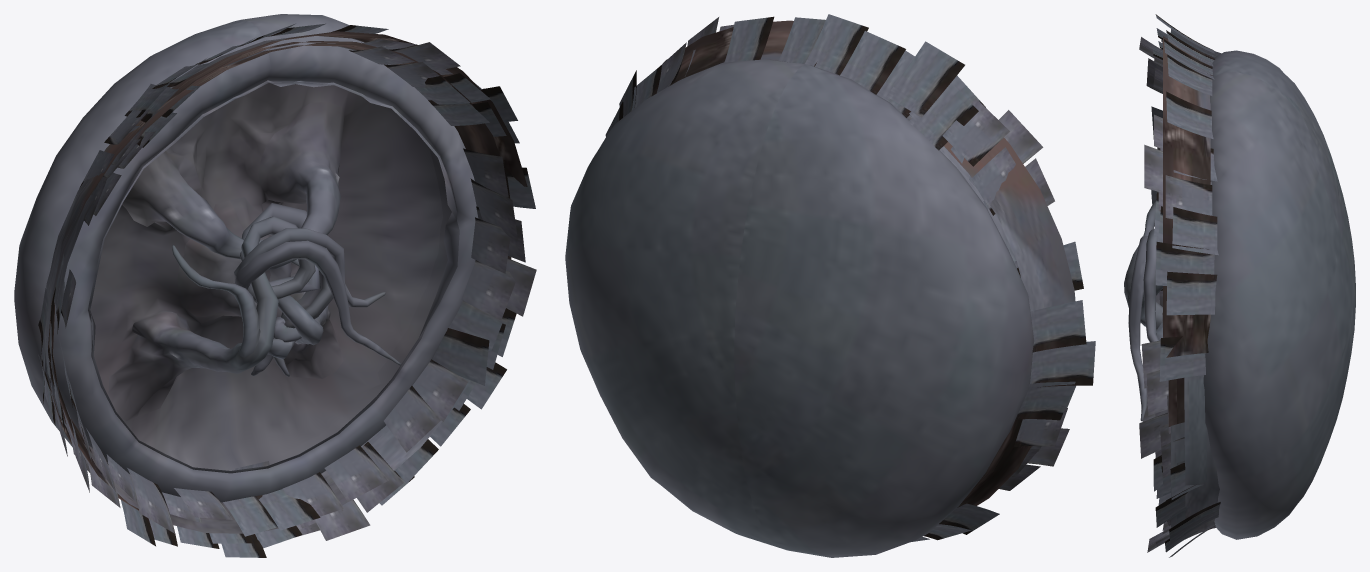
File: weapon-wp_a_2211.glb
3 views of the same model, side by side, from view 1: azimuth 30°, elevation 25°; view 2: azimuth 150°, elevation 25°; view 3: azimuth 270°, elevation 25° (orthographic). The views are drawn at different scales.
Visible parts, largest first — view 1: wp_a_2211_mesh; view 2: wp_a_2211_mesh; view 3: wp_a_2211_mesh.
Part boxes in pixels (x1,y1,x2,y2): wp_a_2211_mesh: [14, 14, 536, 557]; wp_a_2211_mesh: [565, 14, 1095, 557]; wp_a_2211_mesh: [1124, 14, 1355, 557].
Size of the model in its own units: 1.1 by 1.11 by 0.4806.
3 materials, 3 textured.
